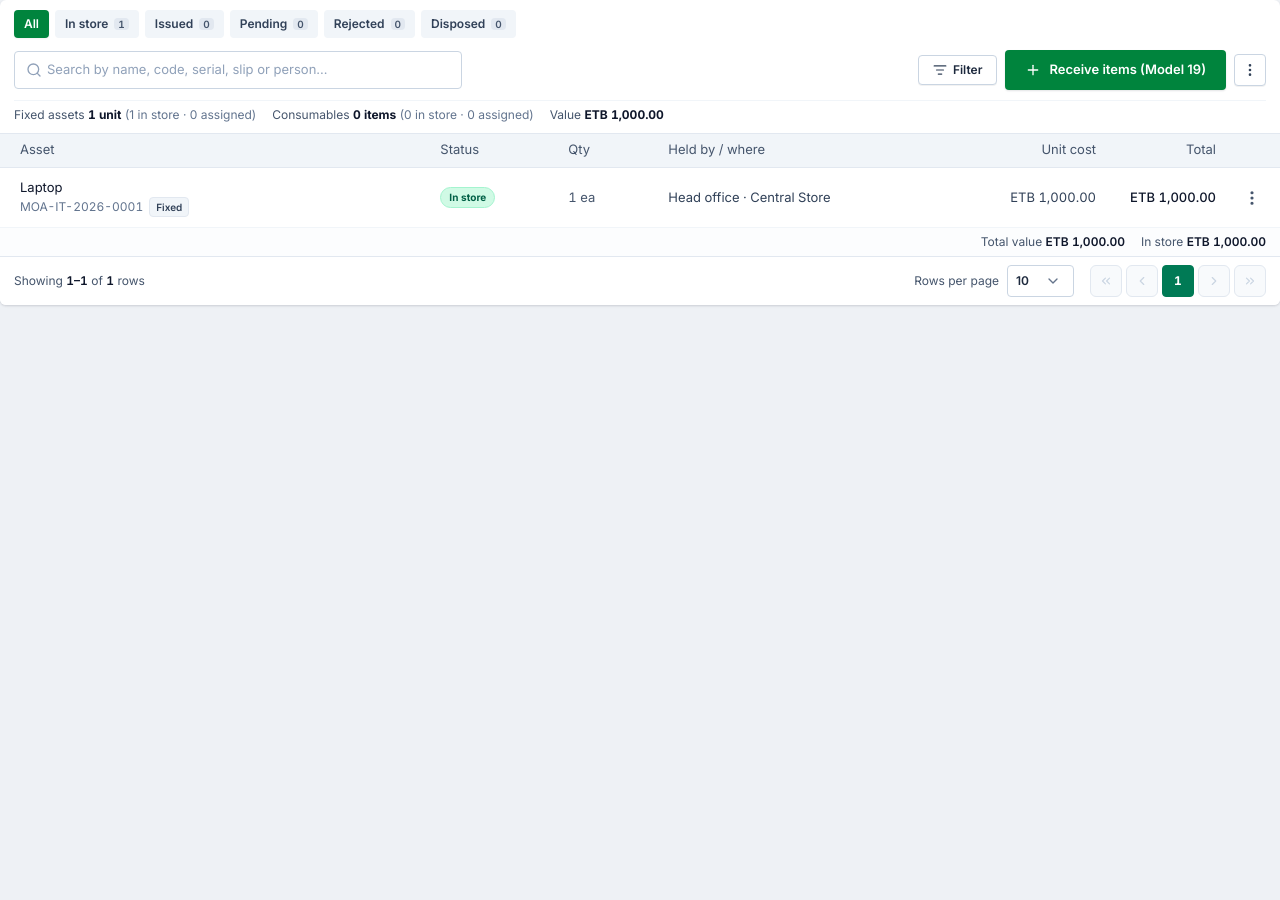
Test: Assets page › records the IFMIS tag number on a fixed asset from its record
Click the text "MOA-IT-2026-0001": (82, 207) x1=20 y1=199 x2=143 y2=215
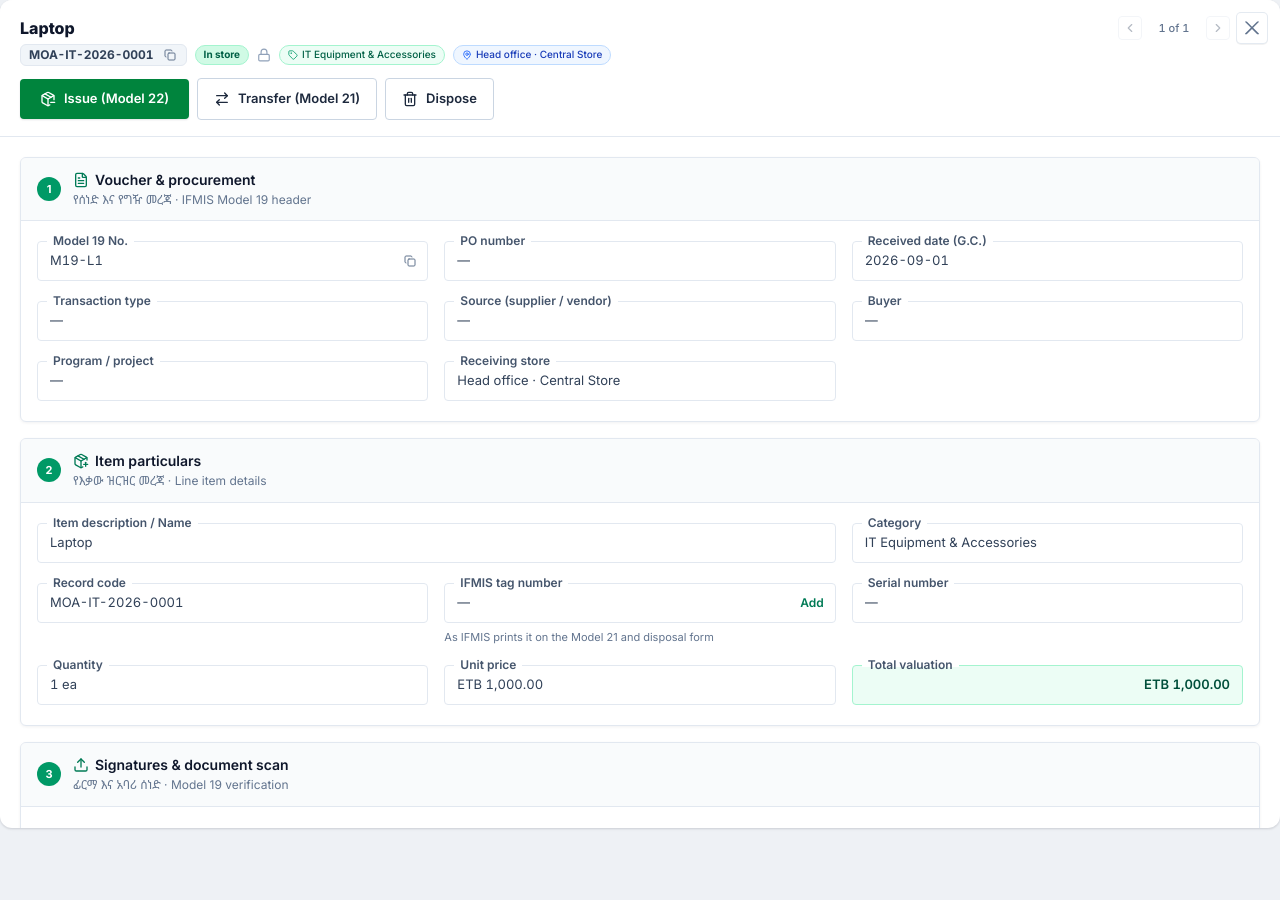
Click the button "Add": (812, 602) x1=794 y1=592 x2=830 y2=612
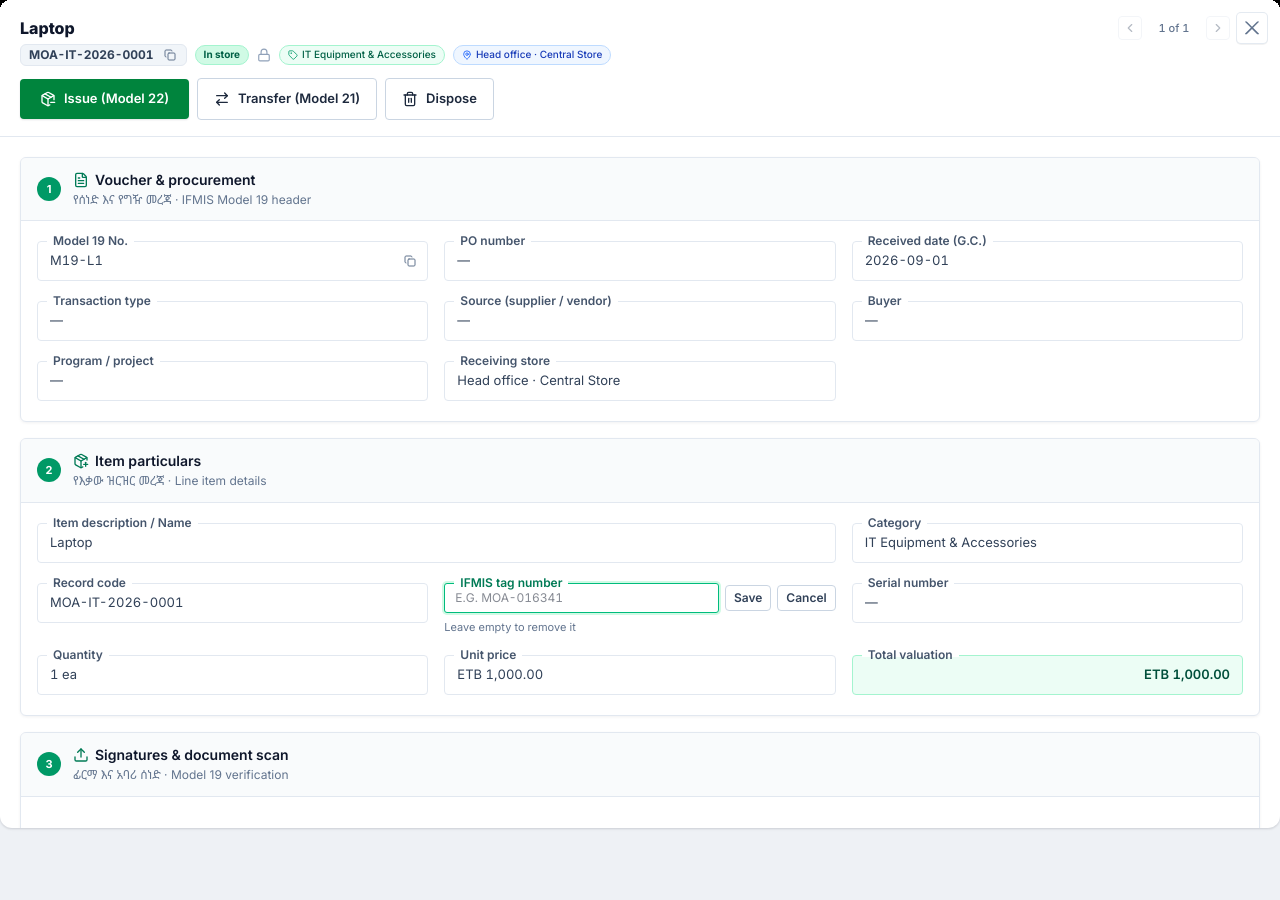
In the field named "IFMIS tag number": (582, 598) x1=444 y1=582 x2=719 y2=612, type "MOA-016342"
Then press Enter
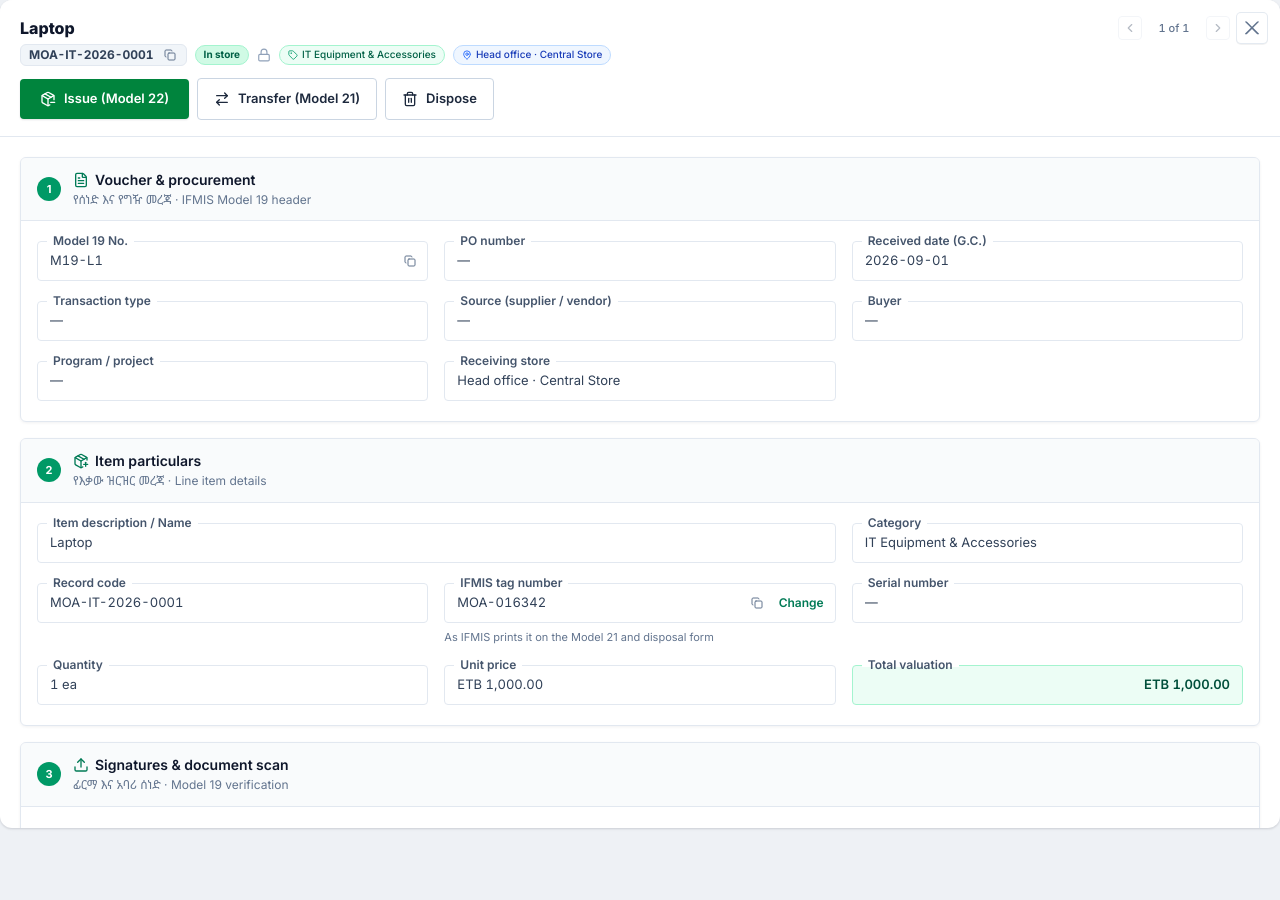
Expected: the text "MOA-016342" is shown, x1=457 y1=593 x2=546 y2=612
